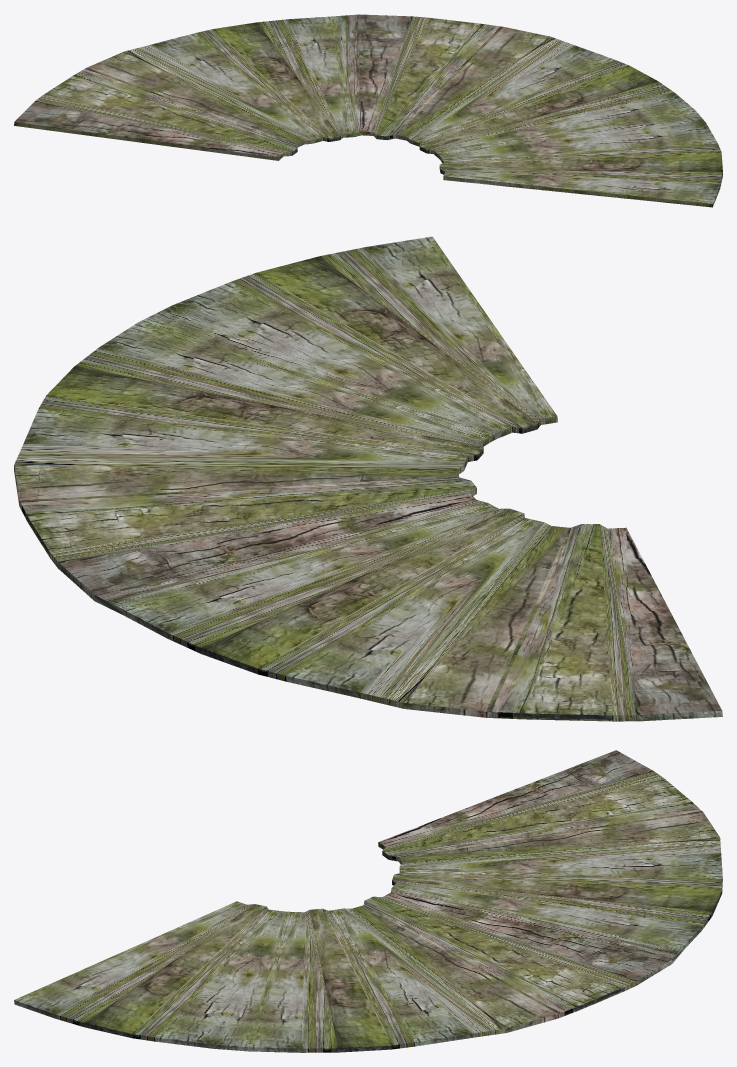
File: Col-R-35g.fbx
3 views of the same model, one above another, from view 1: azimuth 30°, elevation 25°; view 2: azimuth 150°, elevation 25°; view 3: azimuth 270°, elevation 25° (orthographic). The views are drawn at different scales.
Parts seen in each view (by area): view 1: GameObject__35_; view 2: GameObject__35_; view 3: GameObject__35_.
Boxes of the visible parts, left/top/right/bottom form: GameObject__35_: left=14, top=14, right=722, bottom=207; GameObject__35_: left=14, top=236, right=722, bottom=721; GameObject__35_: left=14, top=750, right=722, bottom=1052.
Bounding box in the file's own units: 437 × 3 × 438.
